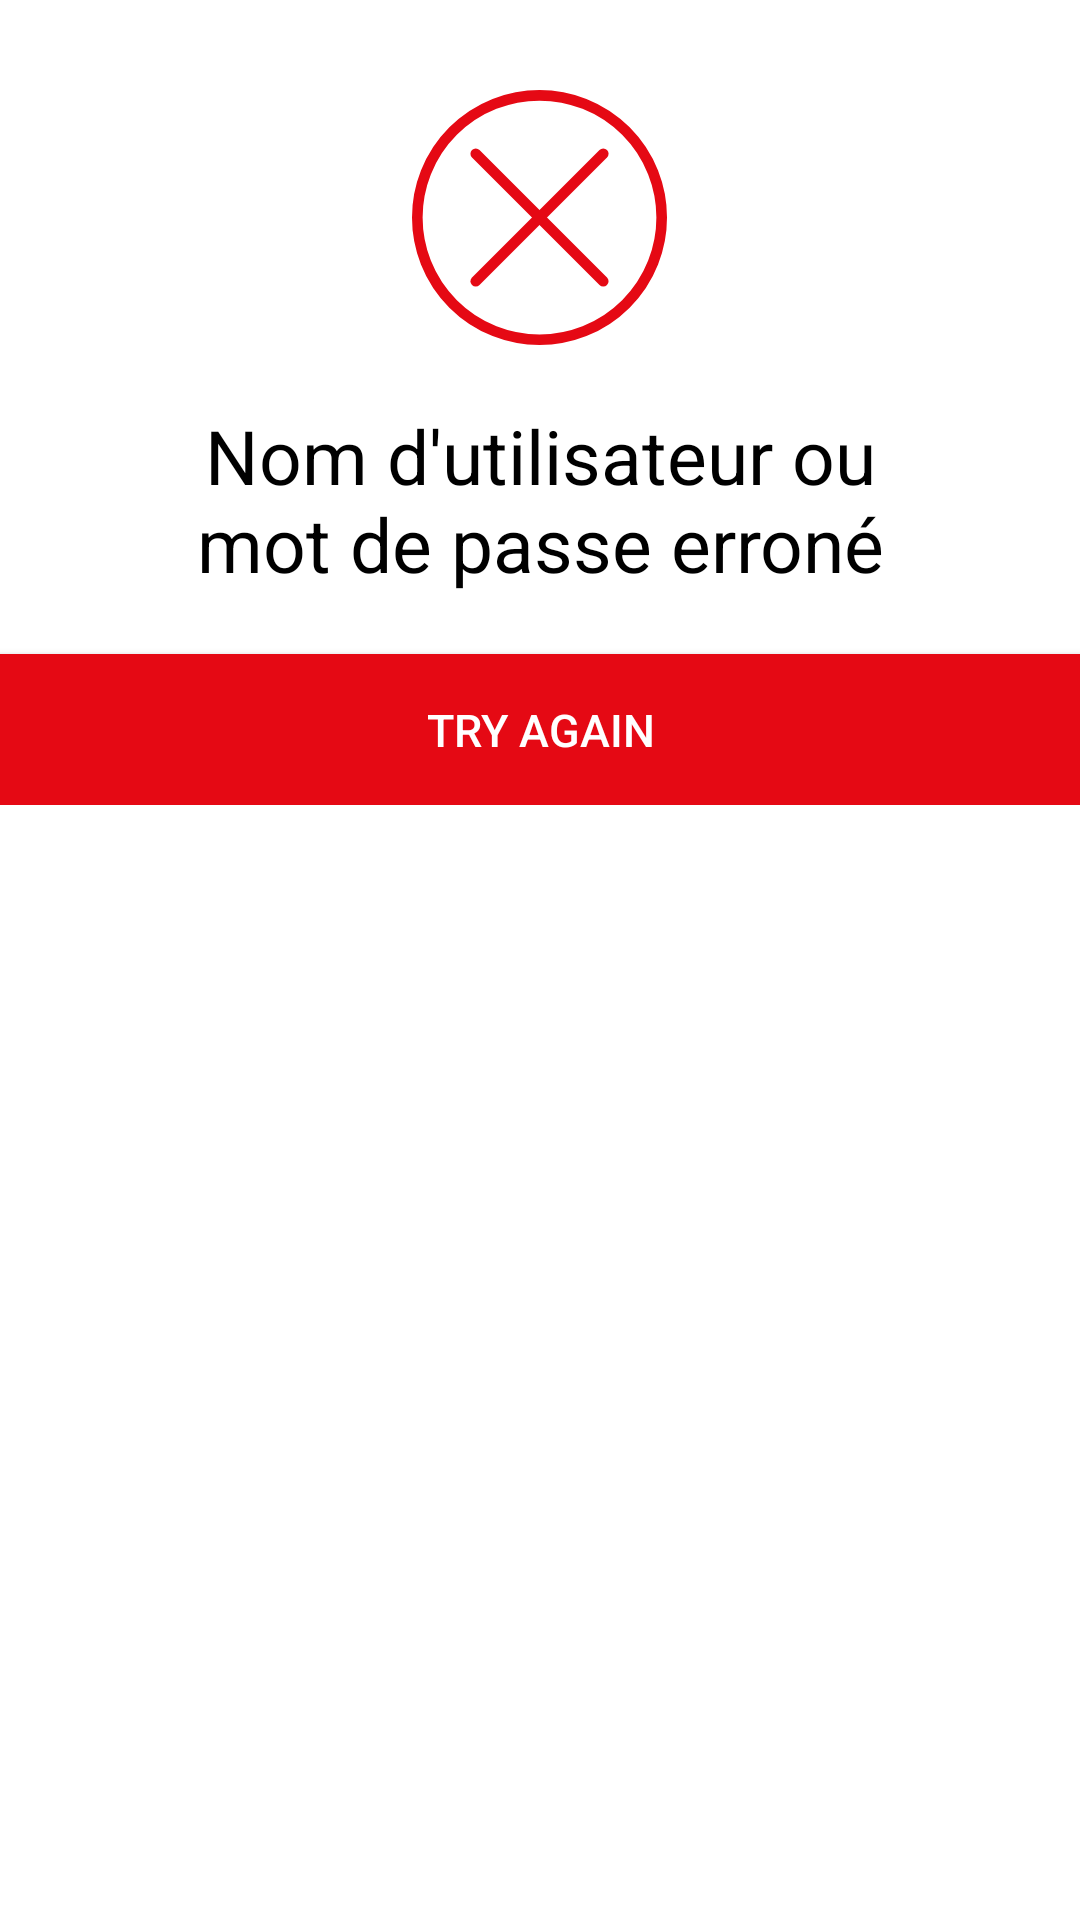

Icons on this 1080px x 1920px Android screen, each with its box as (x1=x1, y1=y1, x2=x2, y2=y2):
error: (x1=412, y1=90, x2=667, y2=345)
